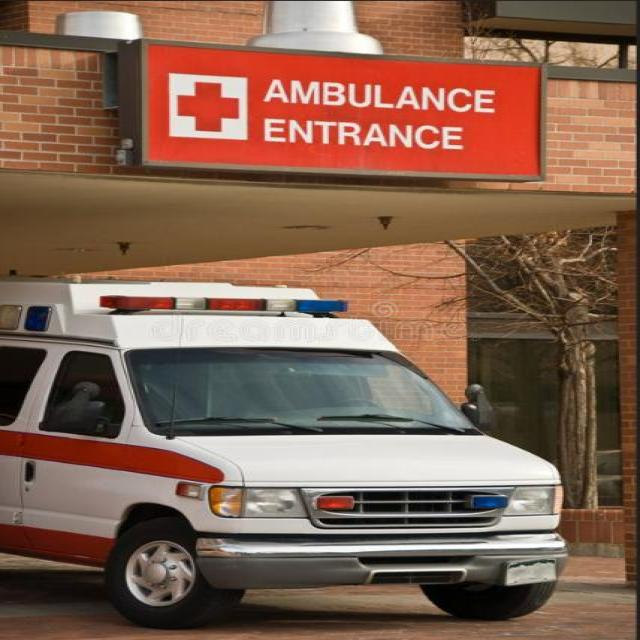emergency-vehicle: (0, 276, 559, 629)
